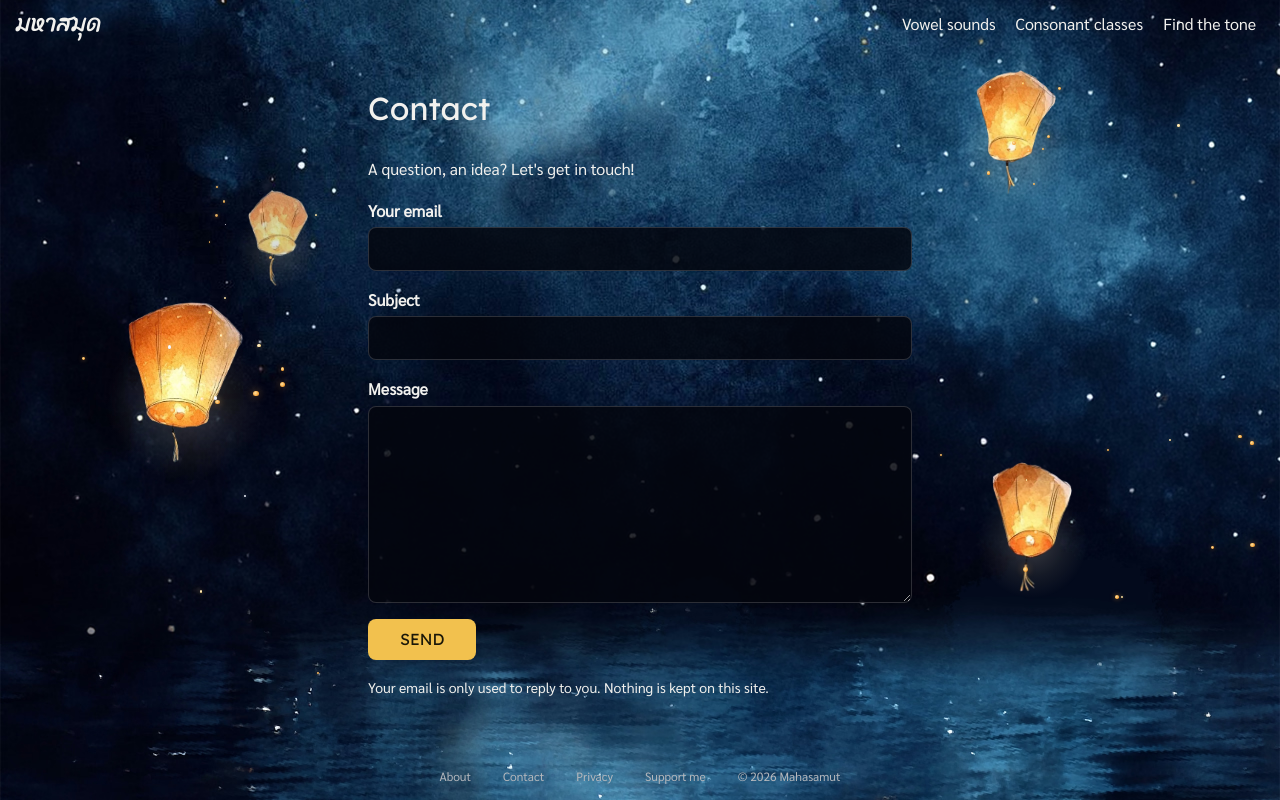
ContactPage › says when too many messages were sent (ip)
Type " me@example.com " into the field labelled "Your email".
click(640, 249); type(" me@example.com ")  # box left=368, top=227, right=912, bottom=271
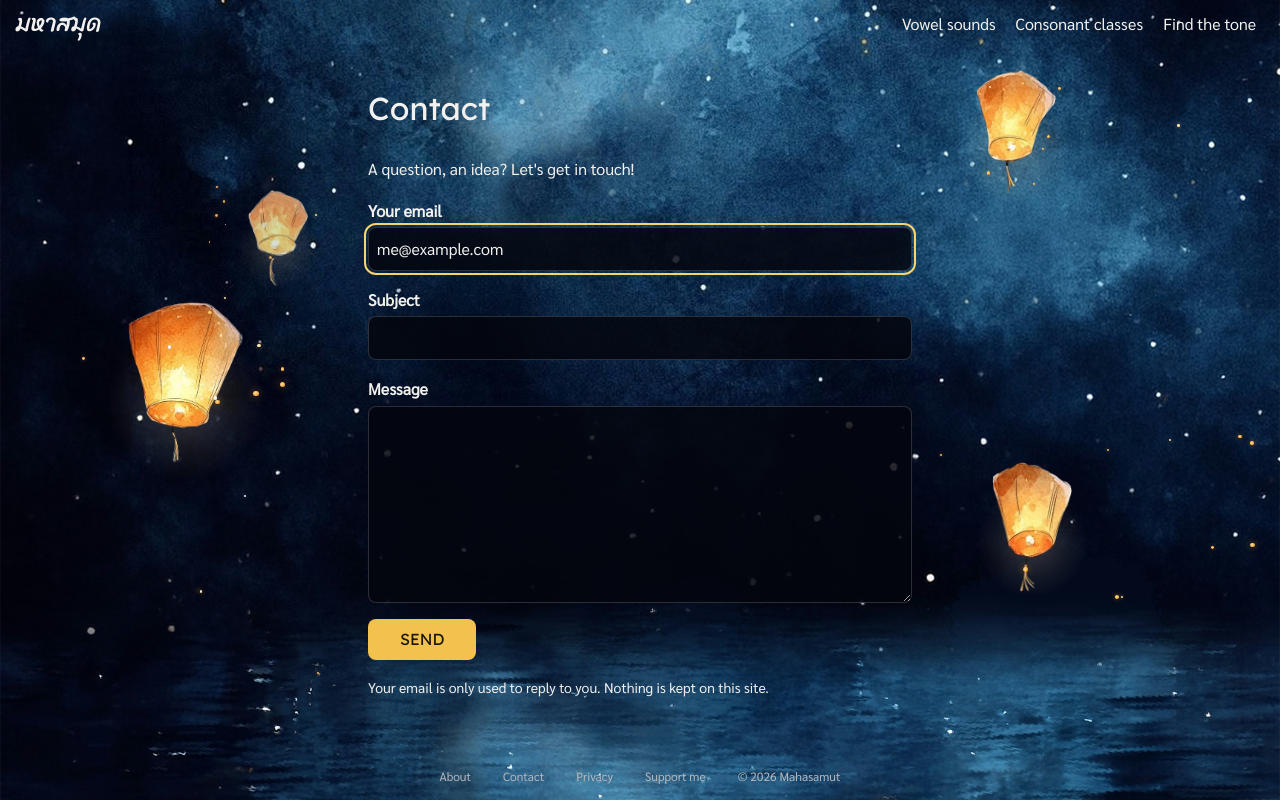
Type " Hello " into the field labelled "Subject".
click(640, 338); type(" Hello ")  # box left=368, top=316, right=912, bottom=360
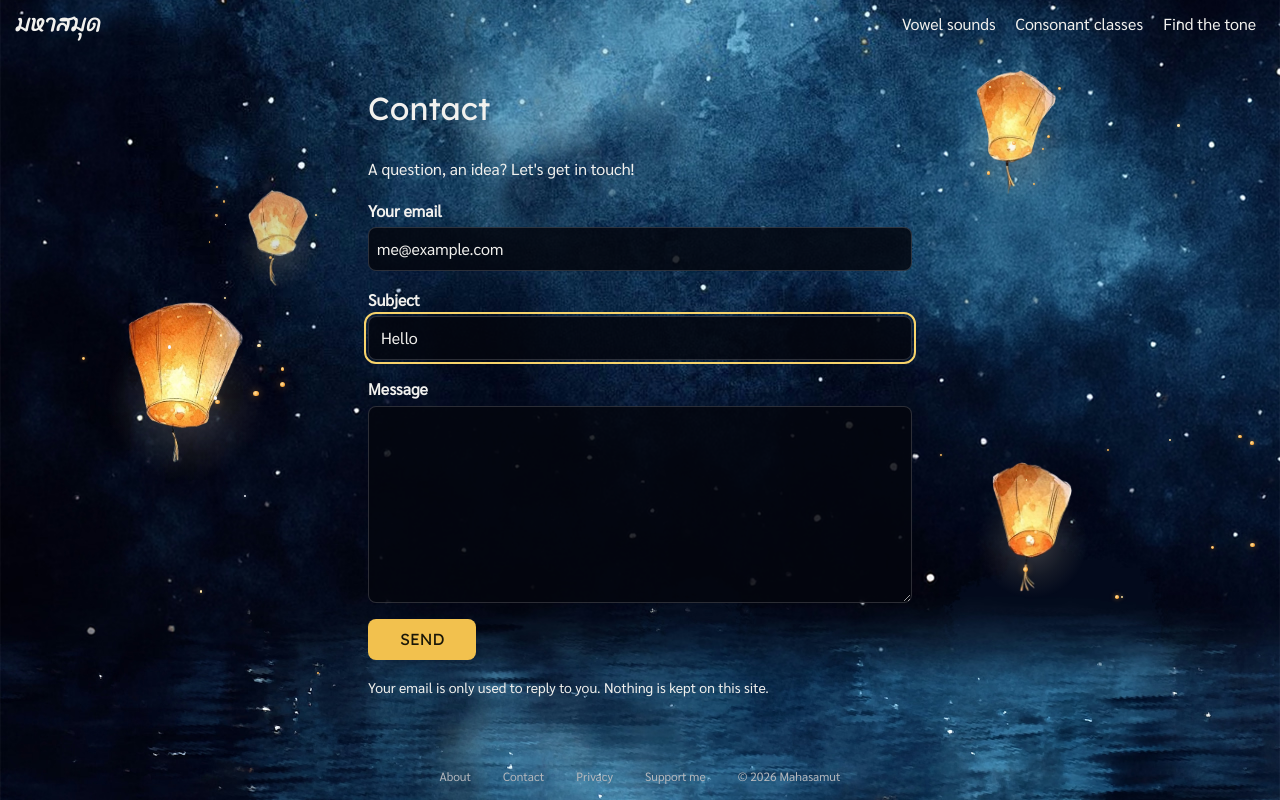
Type " A question. " into the text box labelled "Message".
click(640, 504); type(" A question. ")  # box left=368, top=406, right=912, bottom=603
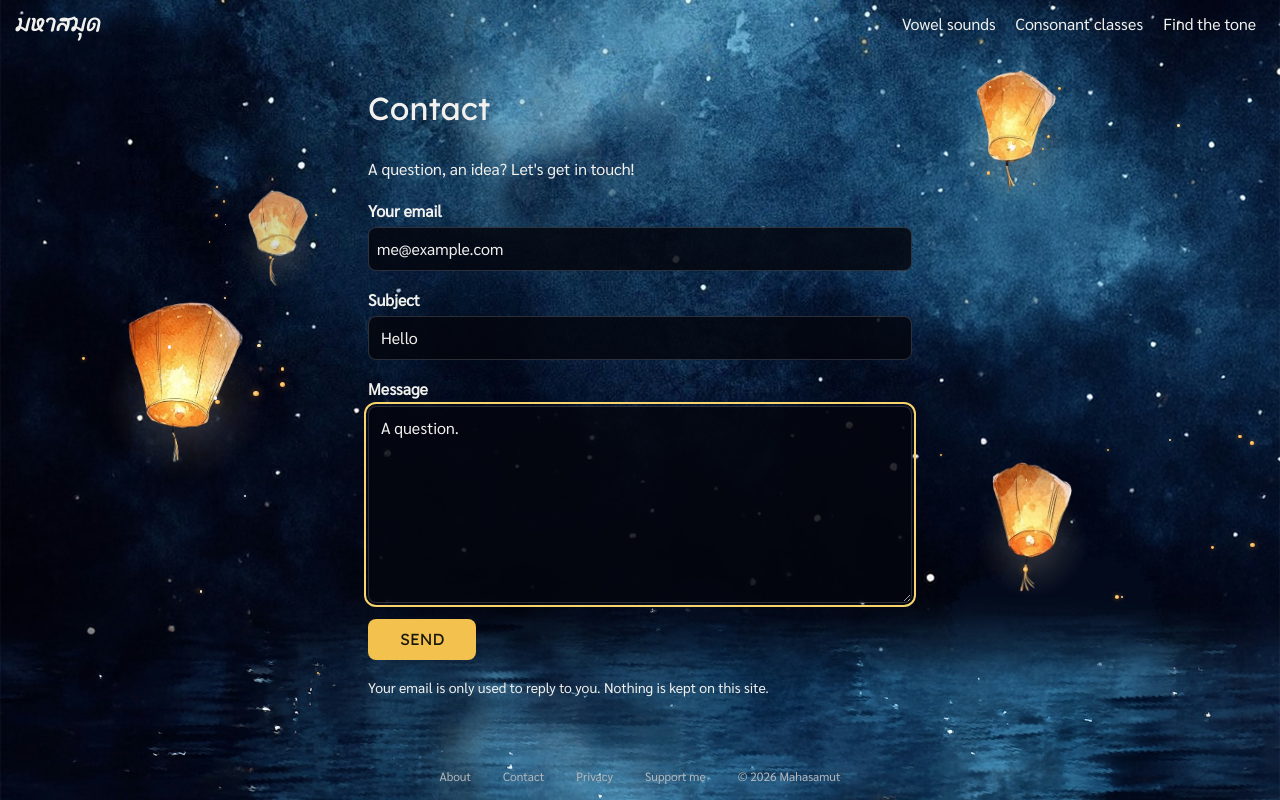
Click the button "Send".
click(422, 640)  # box left=368, top=619, right=476, bottom=660
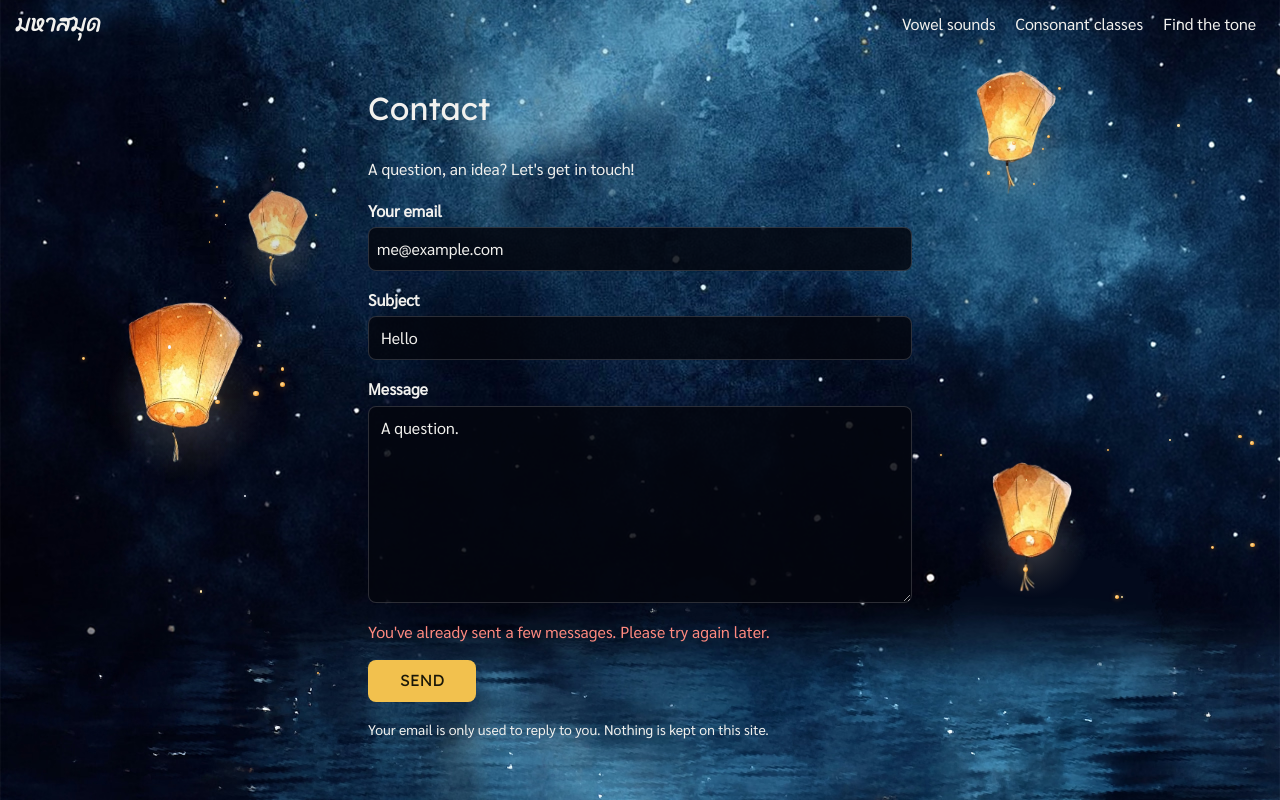
Result: the message reads "You've already sent a few messages. Please try again later." at left=368, top=621, right=770, bottom=642
